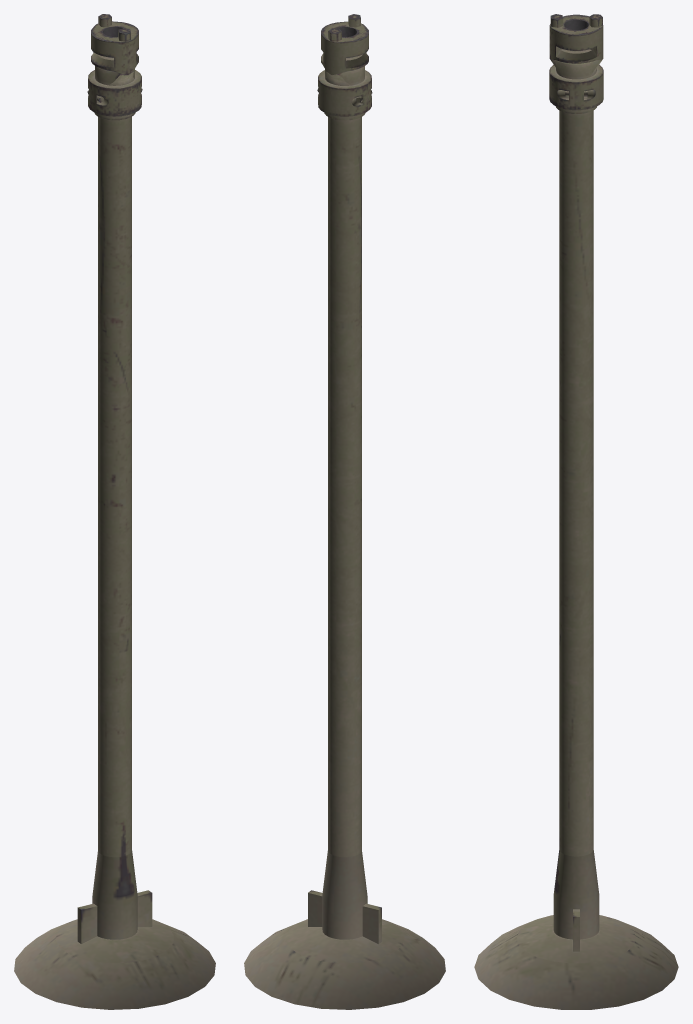
The model's file is Gun_03.glb.
3 views of the same model, side by side, from view 1: azimuth 30°, elevation 25°; view 2: azimuth 150°, elevation 25°; view 3: azimuth 270°, elevation 25° (orthographic).
Visible parts, largest first — view 1: set_0_group_0; view 2: set_0_group_0; view 3: set_0_group_0.
Part boxes in pixels (x1=…): set_0_group_0: x1=14, y1=14, x2=215, y2=1009; set_0_group_0: x1=244, y1=14, x2=445, y2=1009; set_0_group_0: x1=474, y1=14, x2=678, y2=1009.
Size of the model in its own units: 0.8566 by 4.44 by 0.8654.
Materials: 1 (1 with a texture image).
